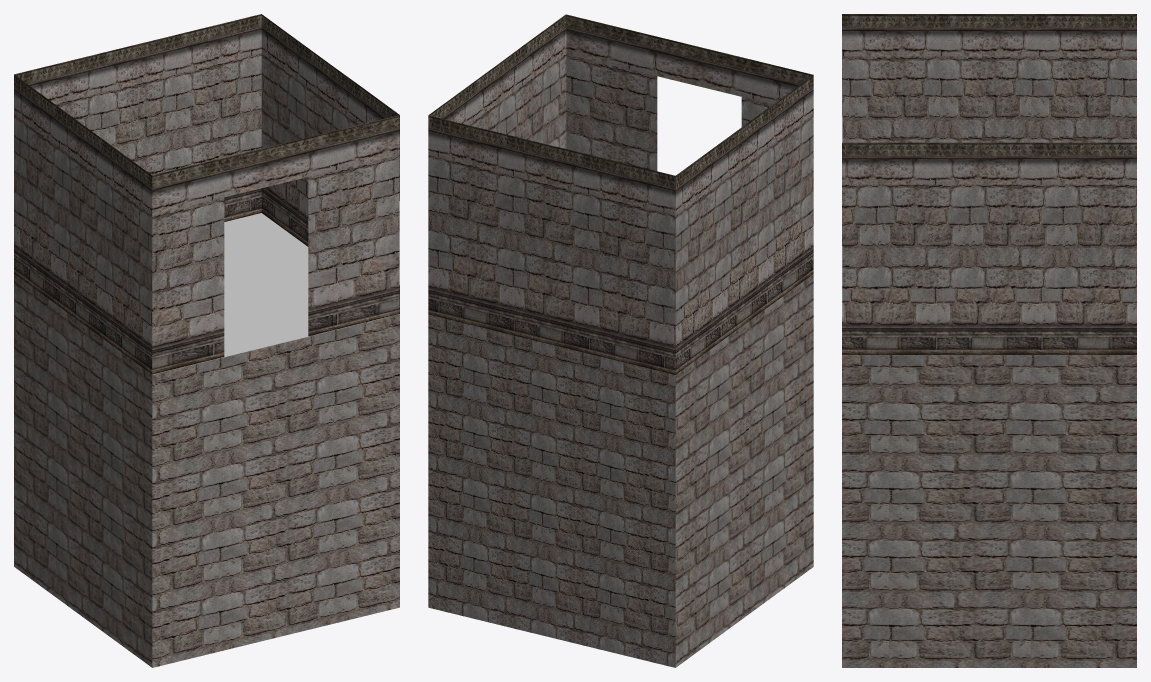
3 renders of one model, left to right at view 1: azimuth 30°, elevation 25°; view 2: azimuth 150°, elevation 25°; view 3: azimuth 270°, elevation 25°, orthographic. The views are drawn at different scales.
Parts seen in each view (by area): view 1: Object50; view 2: Object50; view 3: Object50.
Part boxes in pixels (x1,y1,x2,y2): Object50: (14, 14, 399, 667); Object50: (428, 14, 813, 667); Object50: (842, 14, 1136, 667).
Size of the model in its own units: 251 by 477 by 243.
